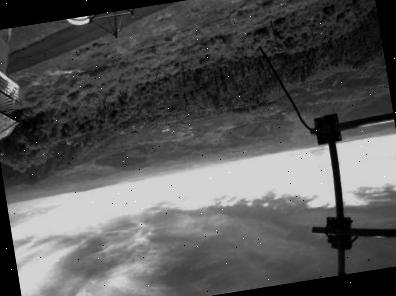smoke: (279, 106, 313, 148)
